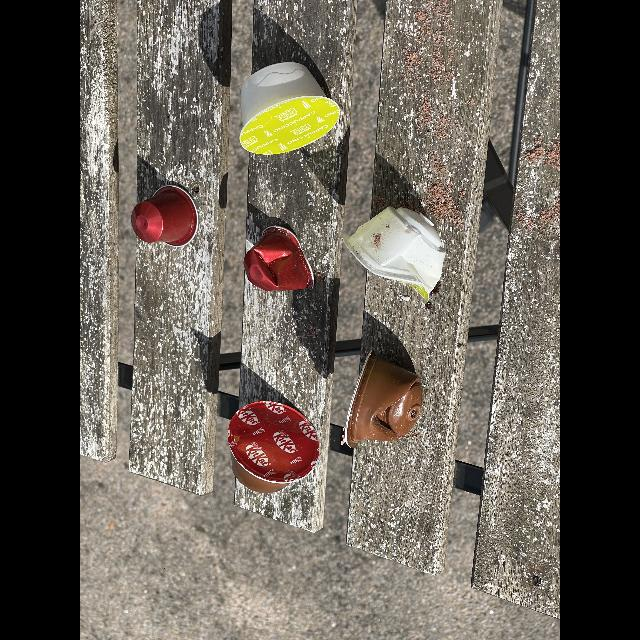damaged_capsule: (341, 202, 457, 302), (344, 348, 426, 454), (242, 223, 316, 297)
intact_capsule: (222, 397, 328, 499), (233, 61, 341, 158), (126, 181, 204, 253)
